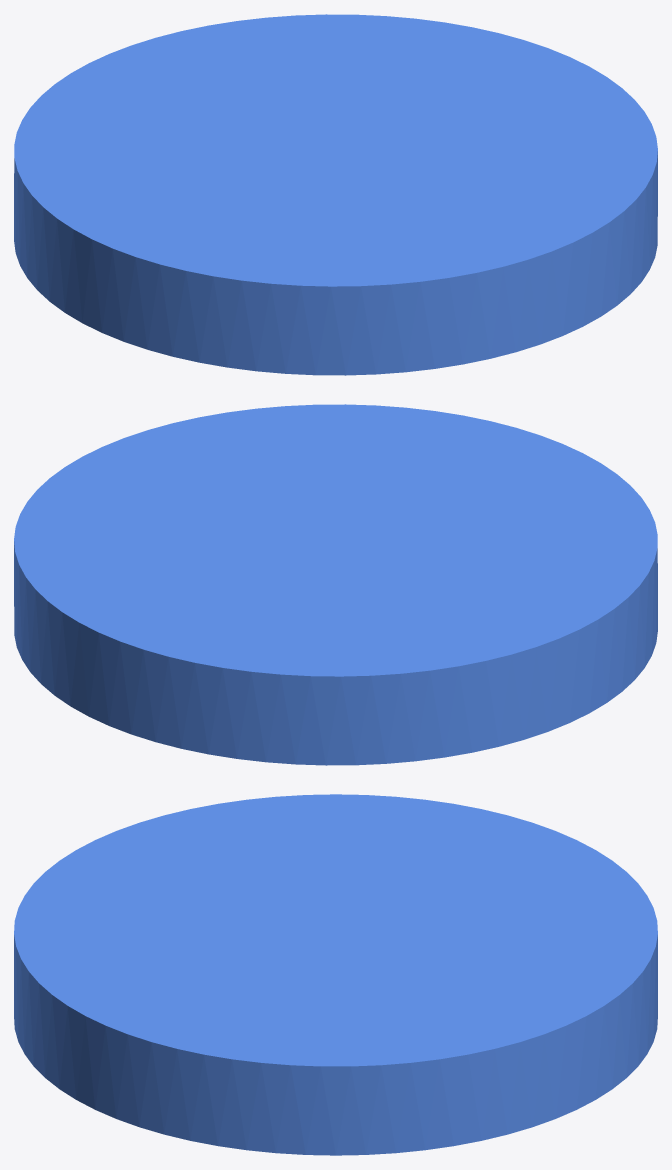
File: lidar_top_fastbot_1.dae
The picture shows the model from 3 angles, top to bottom: view 1: azimuth 30°, elevation 25°; view 2: azimuth 150°, elevation 25°; view 3: azimuth 270°, elevation 25°; orthographic projection.
Visible parts, largest first — view 1: lidar_top_1; view 2: lidar_top_1; view 3: lidar_top_1.
Part boxes in pixels (x1,y1,x2,y2): lidar_top_1: [14, 14, 657, 375]; lidar_top_1: [14, 404, 657, 765]; lidar_top_1: [14, 794, 657, 1155].
Size of the model in its own units: 65.6 by 65.58 by 10.
Materials: 1 (1 with a texture image).
